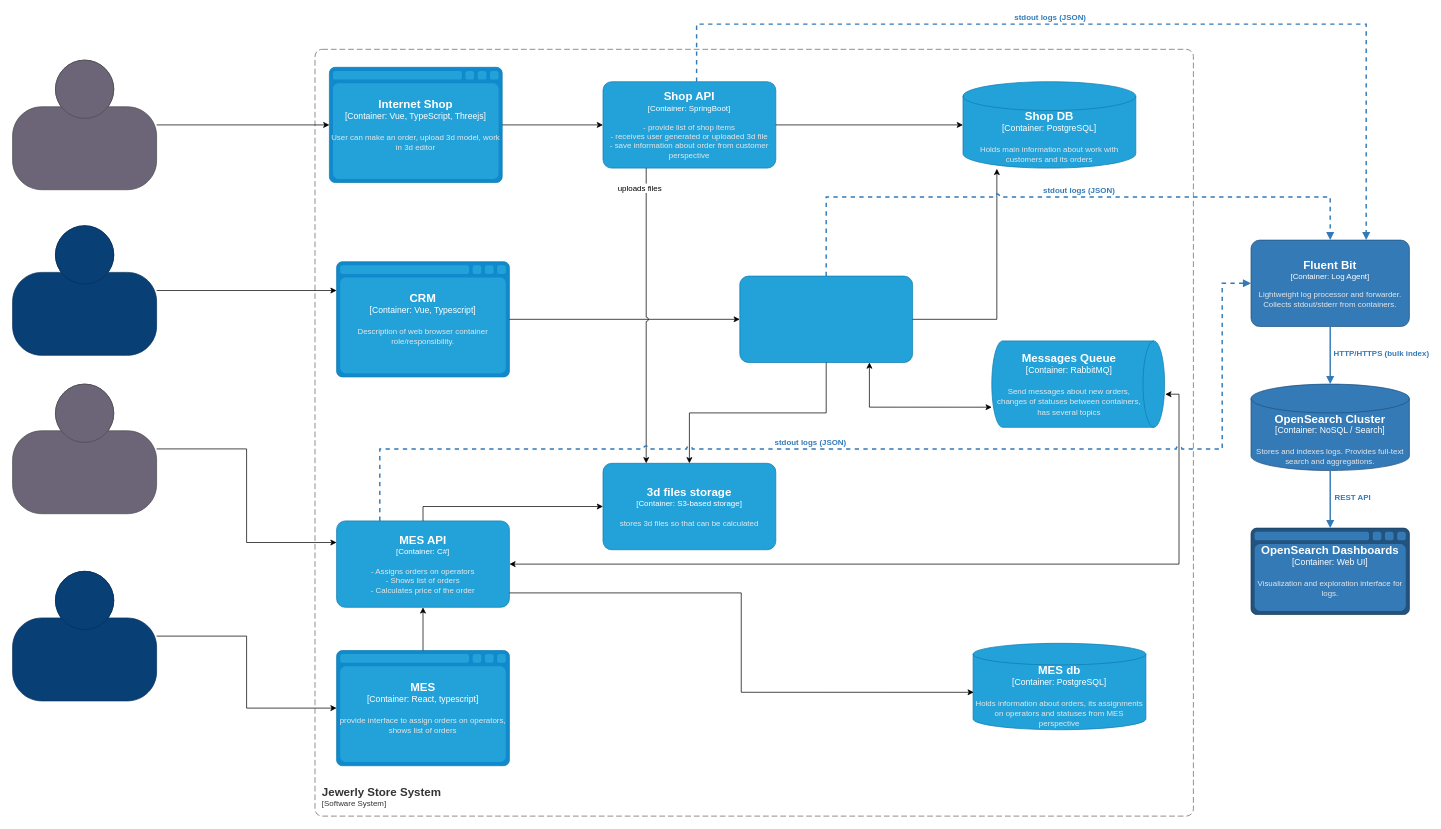
The diagram is 1441 pixels wide and 829 high, and some of its shapes have lost their labels. The shapes that lost their labels are listed below. From the top down, each one's centre as x and y in pixels, then its label:
At (84,124): "Customer [Person] Description of external person.".
At (84,290): "Seller [Person] Operates with order, confirms manufacturing for the user".
At (826,319): "CRM API [Container: SpringBoot] Description of container role/responsibility.".
At (84,448): "API user [Person] Description of external person.".
At (84,636): "Operator [Person] Takes order in work, manufactures jewerly".
